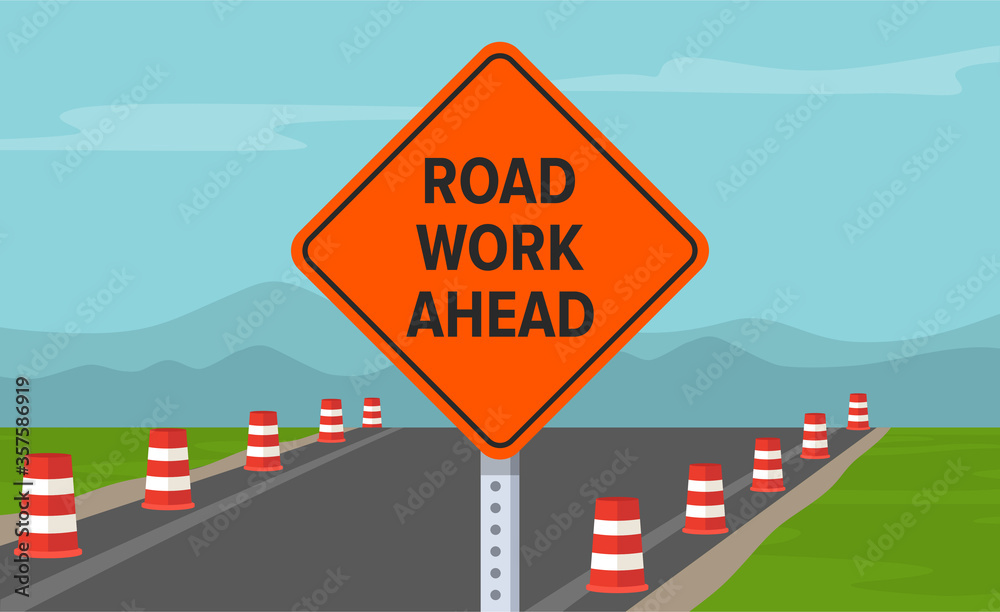Road_workahead: (290, 41, 712, 458)
